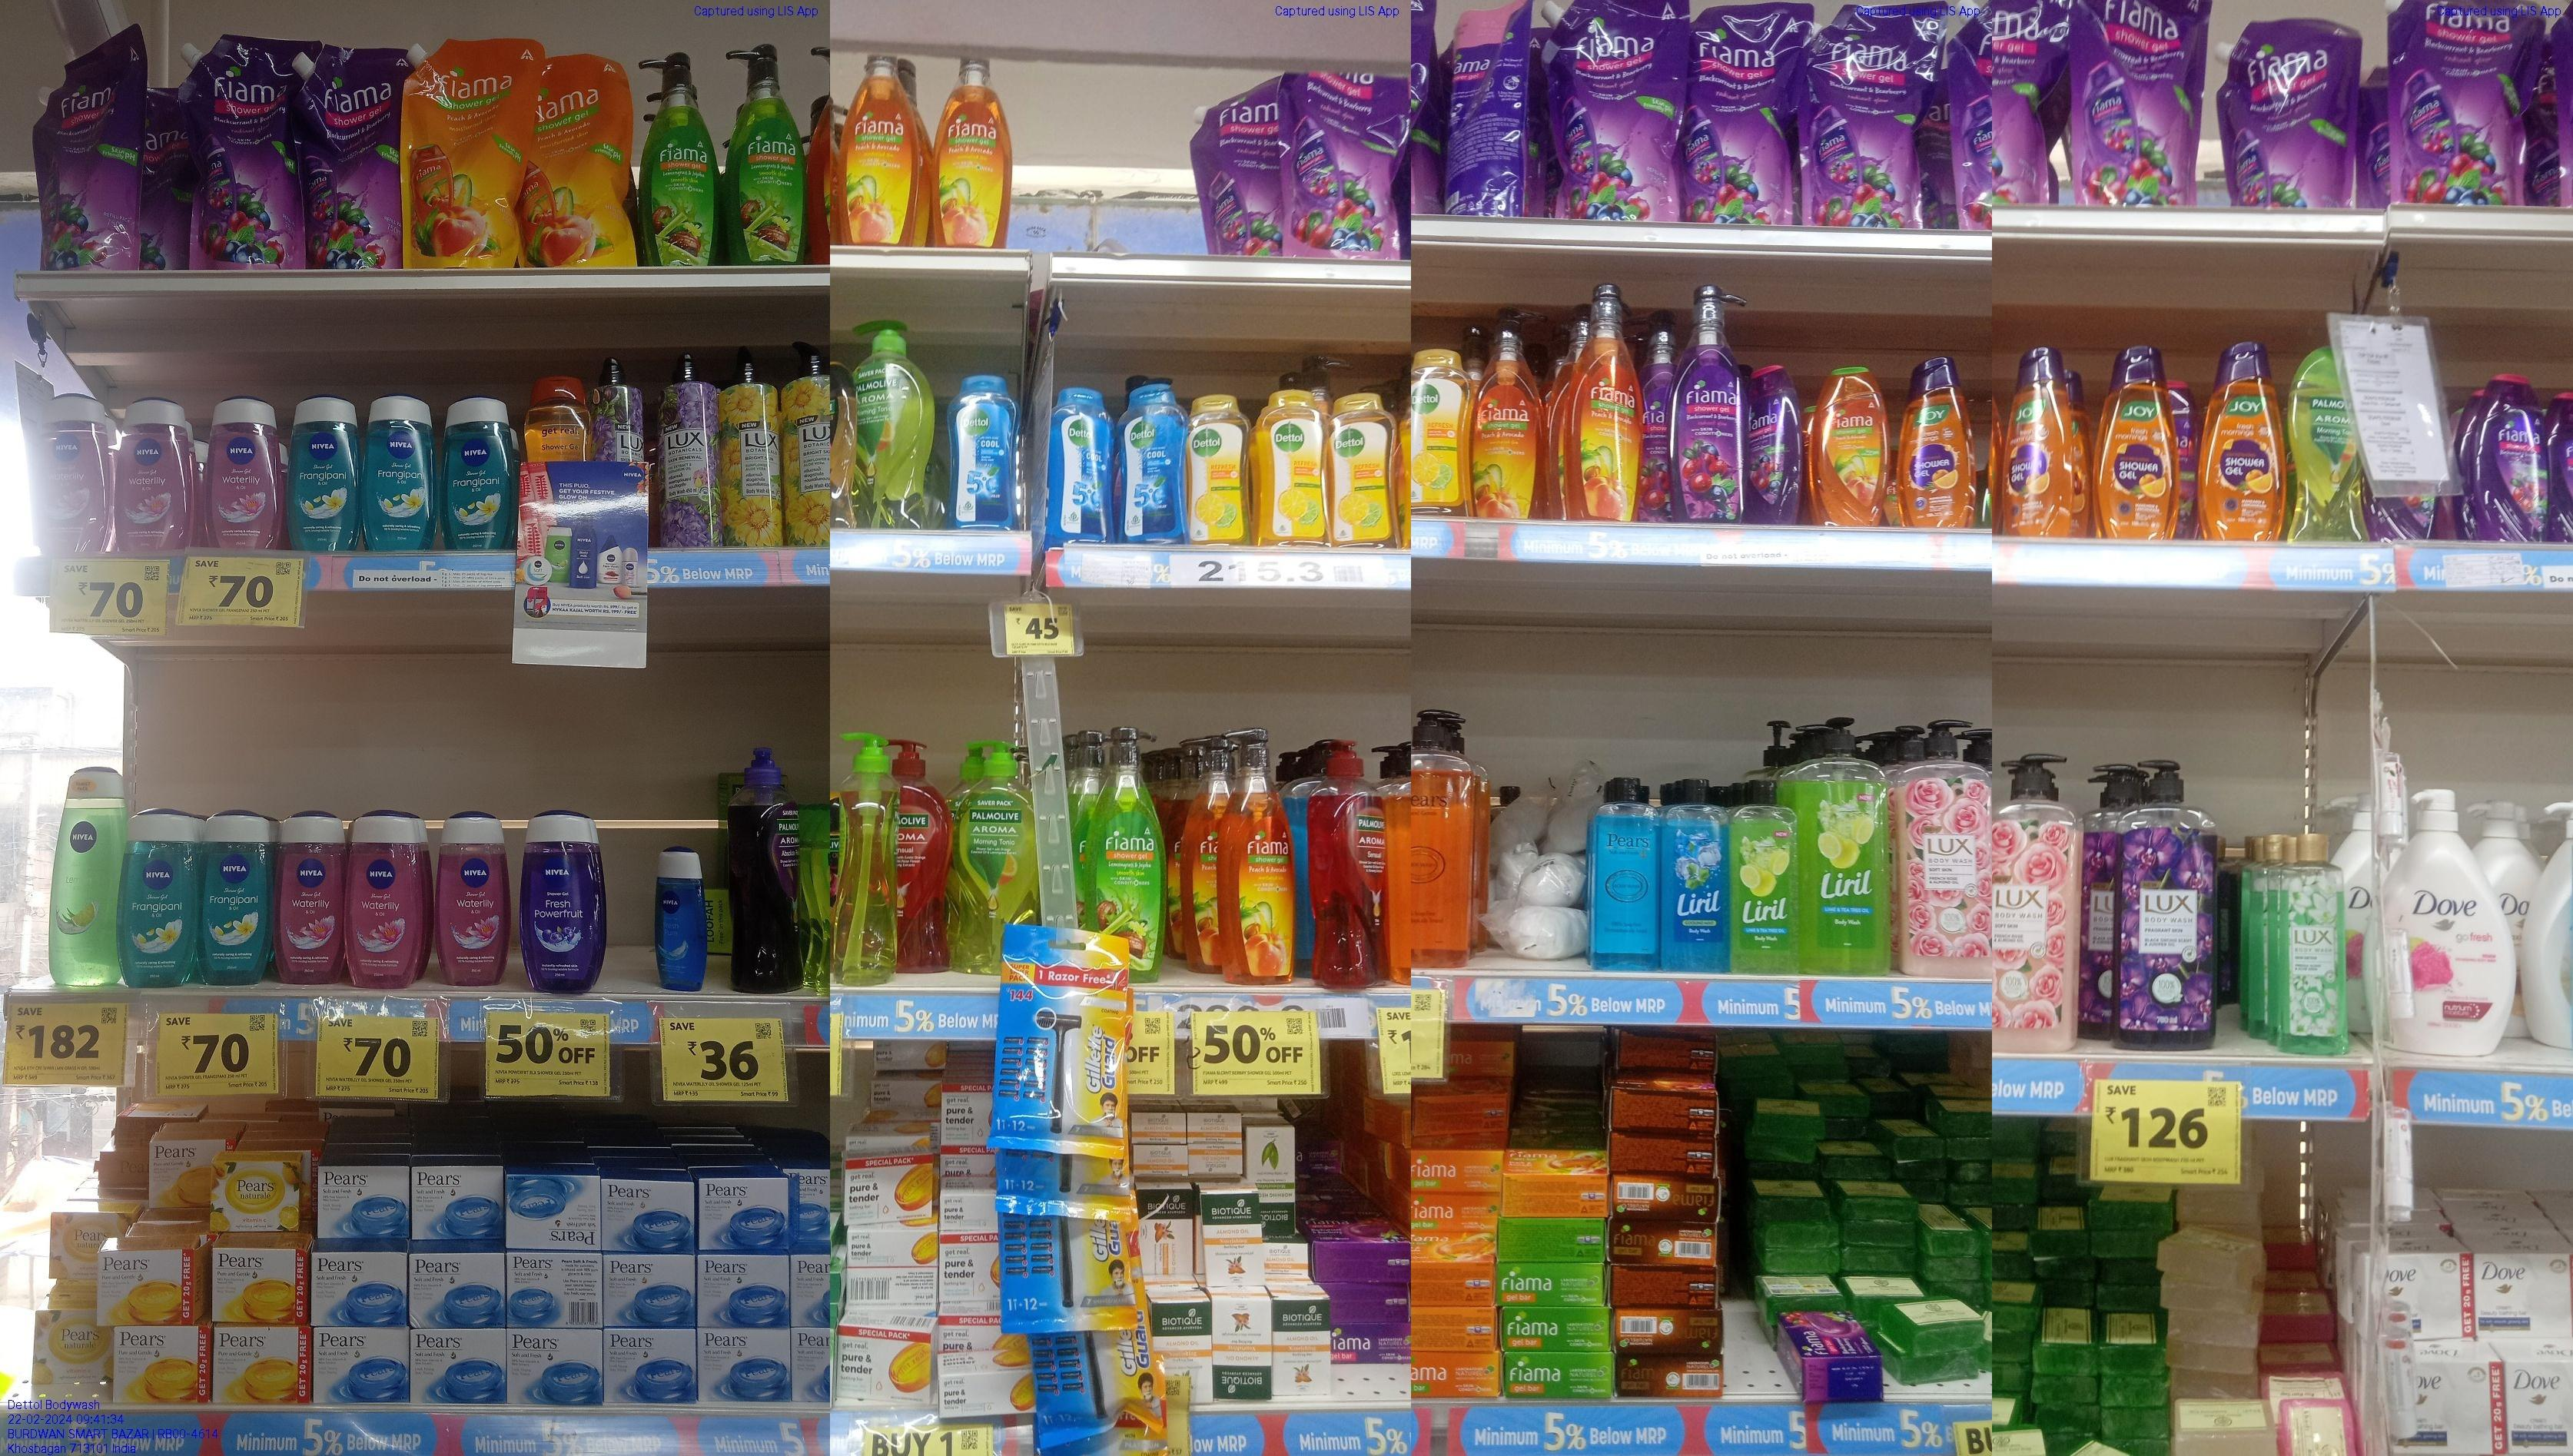Dettol_Bodywash_Cool: (953, 368, 1021, 528), (1119, 382, 1188, 542), (1053, 385, 1113, 542)
Dettol_Bodywash_Refresh: (1256, 391, 1331, 542), (1410, 341, 1472, 516), (1334, 391, 1398, 546), (1191, 394, 1253, 542)
Fiama_Shower_Gel_Peach_and_Avocado_250ML: (1811, 366, 1887, 525)
Joy_Shower_Gel_Mandarin_and_Lemongrass_250ML: (2202, 341, 2281, 542), (2098, 343, 2179, 537), (2002, 348, 2073, 539), (1900, 357, 1972, 530)
Liril_Cooling_Mint_Body_Wash_250ML: (1661, 777, 1728, 975)
Liril_Lime_and_Tea_Tree_Oil_Body_Wash_250ML: (1732, 786, 1797, 975)
Lux_Body_Wash_Skin_Detox_Freesia_Scent_and_Alove_Vera_245ML: (2274, 834, 2345, 1055)
Nivea_Shower_Gel_Frangipani_and_Oil_250ML: (118, 804, 194, 986), (198, 806, 272, 982), (364, 392, 435, 550), (288, 396, 359, 551), (444, 401, 516, 551)
Nivea_Shower_Gel_Fresh_Powerfruit_250ML: (521, 813, 601, 990)
Nivea_Shower_Gel_Lemon_and_Oil_250ML: (48, 760, 115, 986)
Nivea_Shower_Gel_Waterlily_and_Oil_250ML: (345, 813, 424, 988), (435, 808, 511, 990), (32, 392, 110, 548), (117, 392, 191, 550), (205, 401, 283, 548), (279, 816, 341, 979)
Palmolive_Aroma_Morning_Tonic_Shower_Gel_250ML: (2287, 346, 2352, 539)
Pears_Pure_Glycerin_and_Mint_Extracts_Body_Wash_250ML: (1585, 770, 1656, 970)
